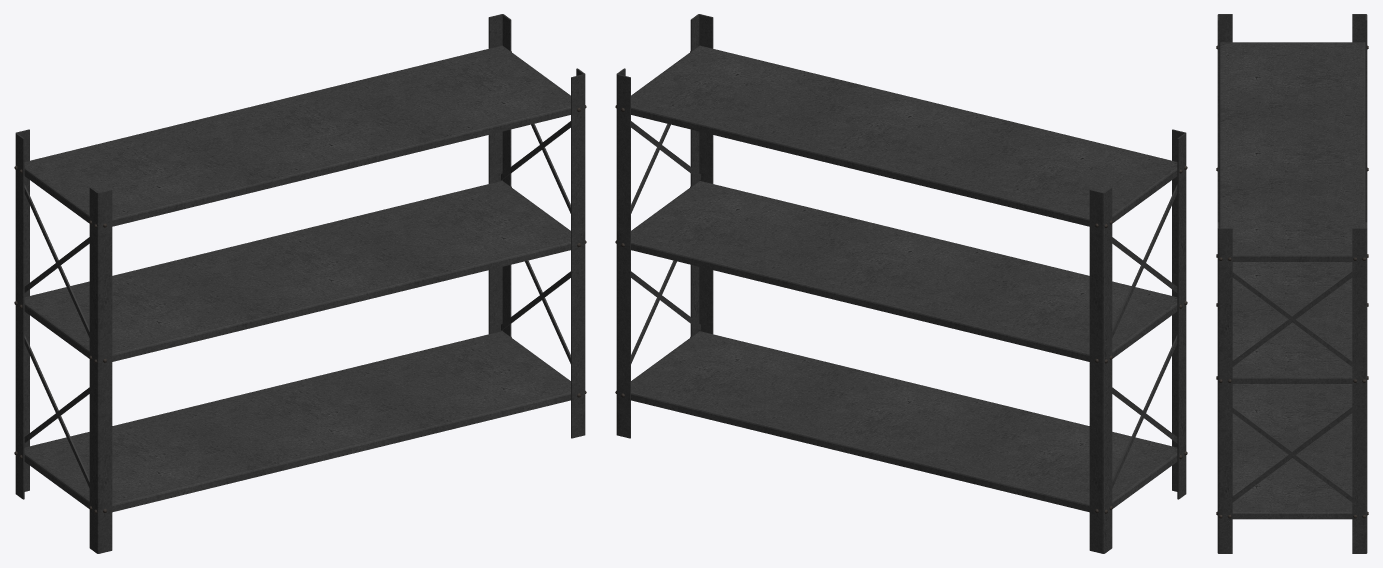
File: metal_shelf_2.obj
3 views of the same model, side by side, from view 1: azimuth 30°, elevation 25°; view 2: azimuth 150°, elevation 25°; view 3: azimuth 270°, elevation 25° (orthographic). The views are drawn at different scales.
Parts seen in each view (by area): view 1: metal_shelf_2; view 2: metal_shelf_2; view 3: metal_shelf_2.
Boxes of the visible parts, x1,y1,x2,y2 form: metal_shelf_2: [14, 14, 586, 553]; metal_shelf_2: [615, 14, 1187, 553]; metal_shelf_2: [1216, 14, 1368, 553].
Bounding box in the file's own units: 3.42 × 2.4 × 1.02.
